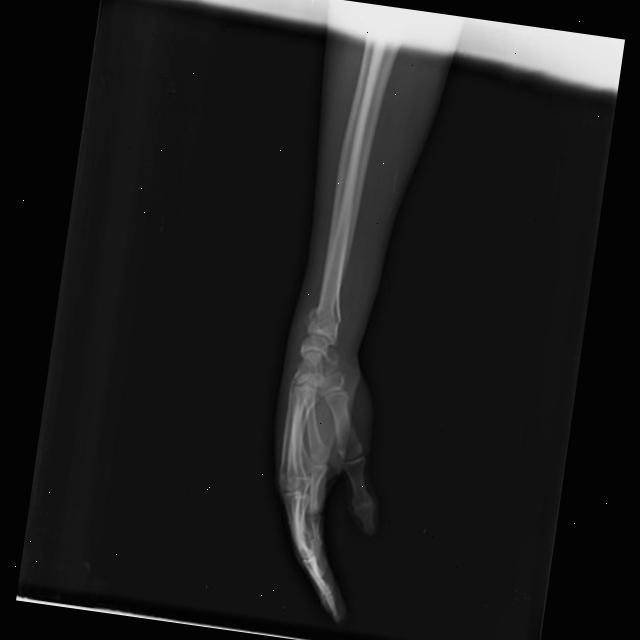fractured: (304, 302, 343, 335)
